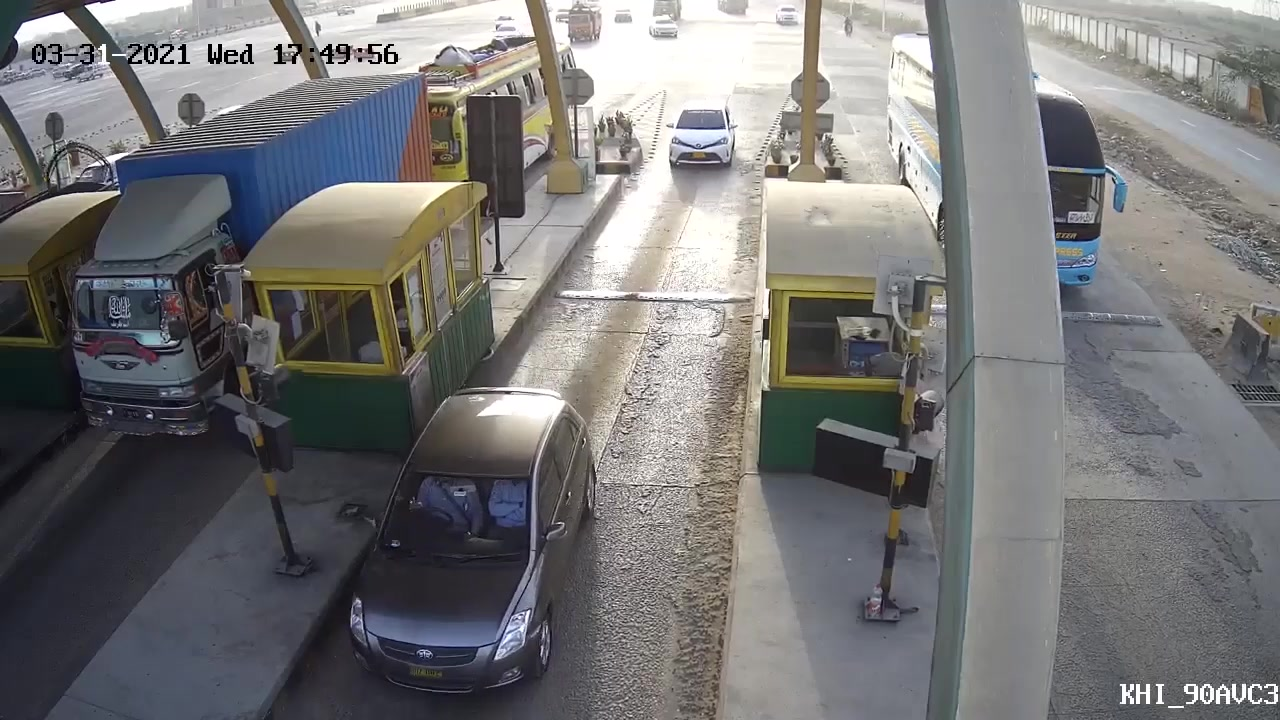F1: (338, 388, 603, 698), (662, 100, 740, 174)
